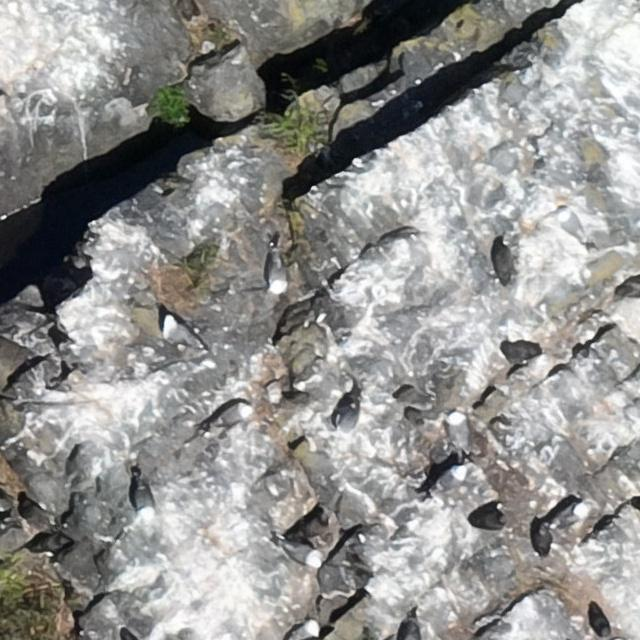umineko: (429, 467, 468, 502), (214, 405, 247, 427), (285, 543, 319, 564), (268, 256, 286, 293), (134, 484, 152, 519), (447, 412, 465, 446), (553, 507, 581, 526), (162, 317, 181, 344), (293, 621, 316, 639), (118, 626, 138, 640)
